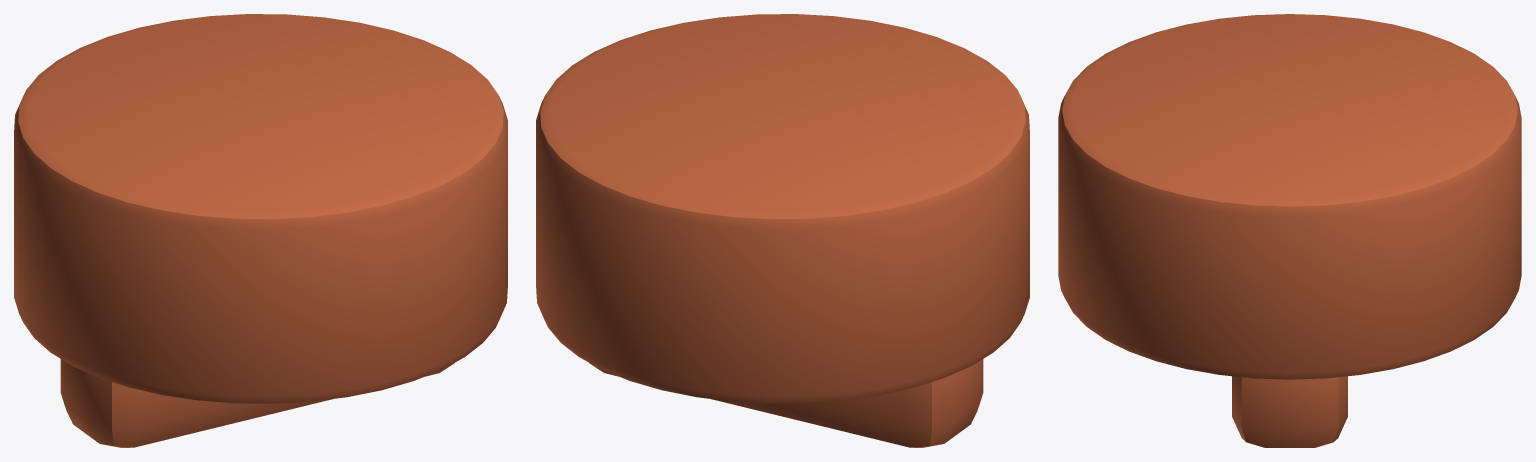
Rendered from wheeled_air_compressor_power_switch.glb.
The picture shows the model from 3 angles, left to right: view 1: azimuth 30°, elevation 25°; view 2: azimuth 150°, elevation 25°; view 3: azimuth 270°, elevation 25°; orthographic projection. The views are drawn at different scales.
Visible parts, largest first — view 1: wheeled_air_compressor_power_switch; view 2: wheeled_air_compressor_power_switch; view 3: wheeled_air_compressor_power_switch.
Boxes of the visible parts, x1,y1,x2,y2 form: wheeled_air_compressor_power_switch: (14,14,507,447); wheeled_air_compressor_power_switch: (536,14,1029,447); wheeled_air_compressor_power_switch: (1058,14,1521,447).
Bounding box in the file's own units: 0.028 × 0.018 × 0.028.
